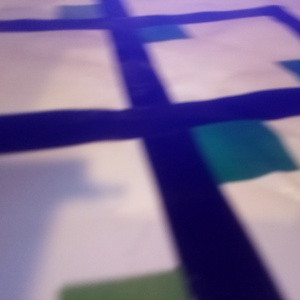bottom_left: (217, 98, 300, 178)
